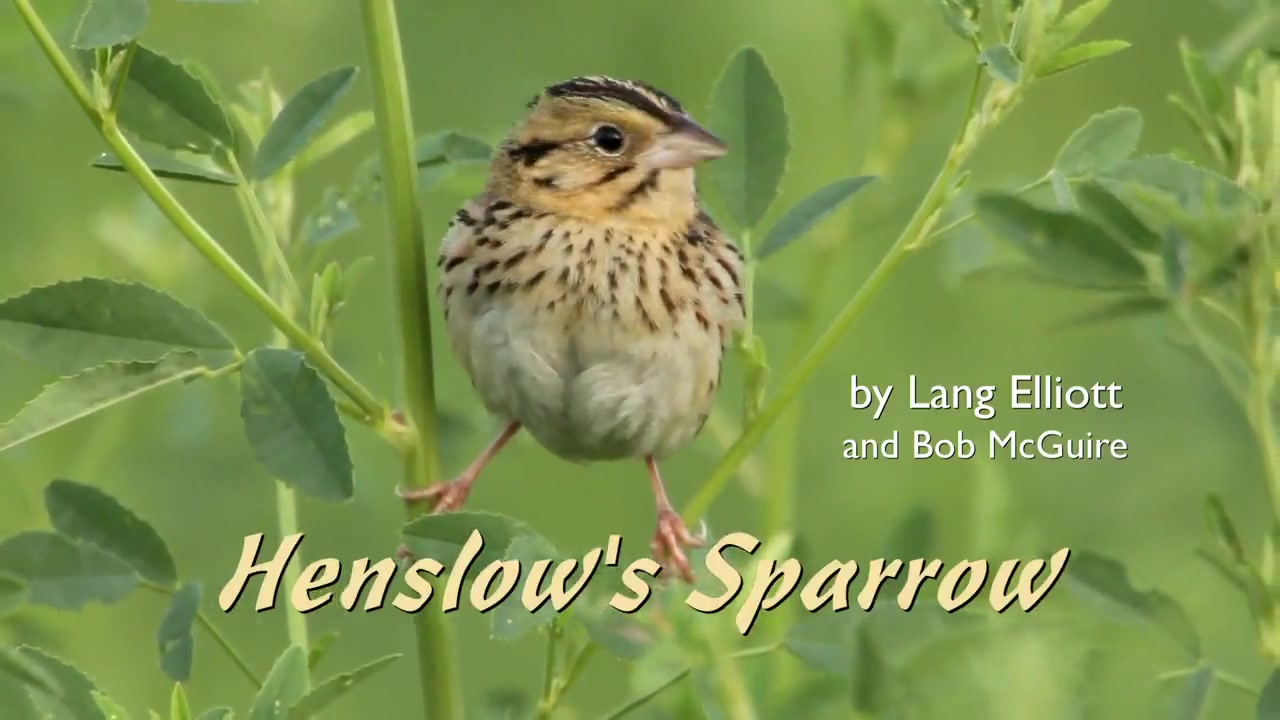bird: (396, 75, 749, 586)
